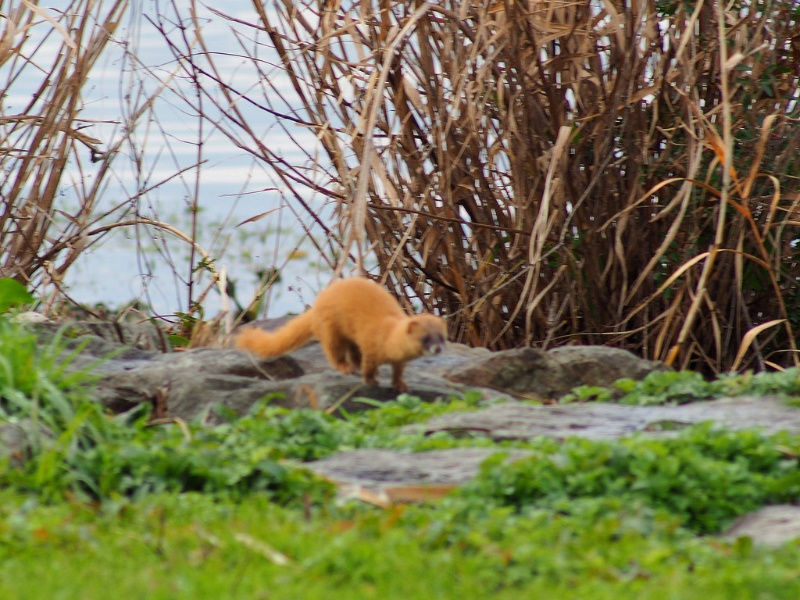minkish: (221, 271, 450, 398)
